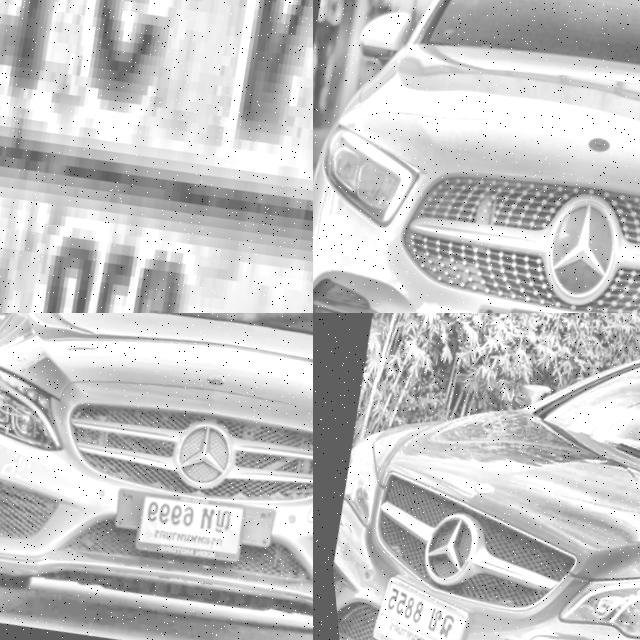license-plate: (0, 0, 313, 313), (118, 484, 242, 578), (350, 566, 473, 640)
